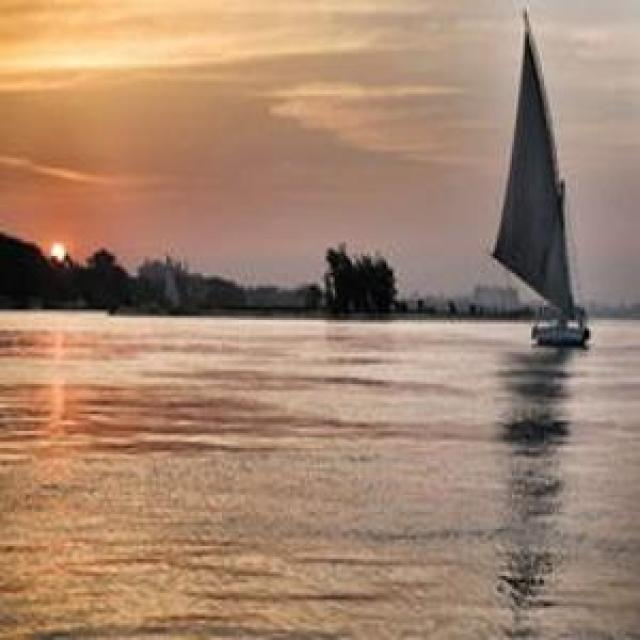sailboat: (484, 4, 599, 347)
